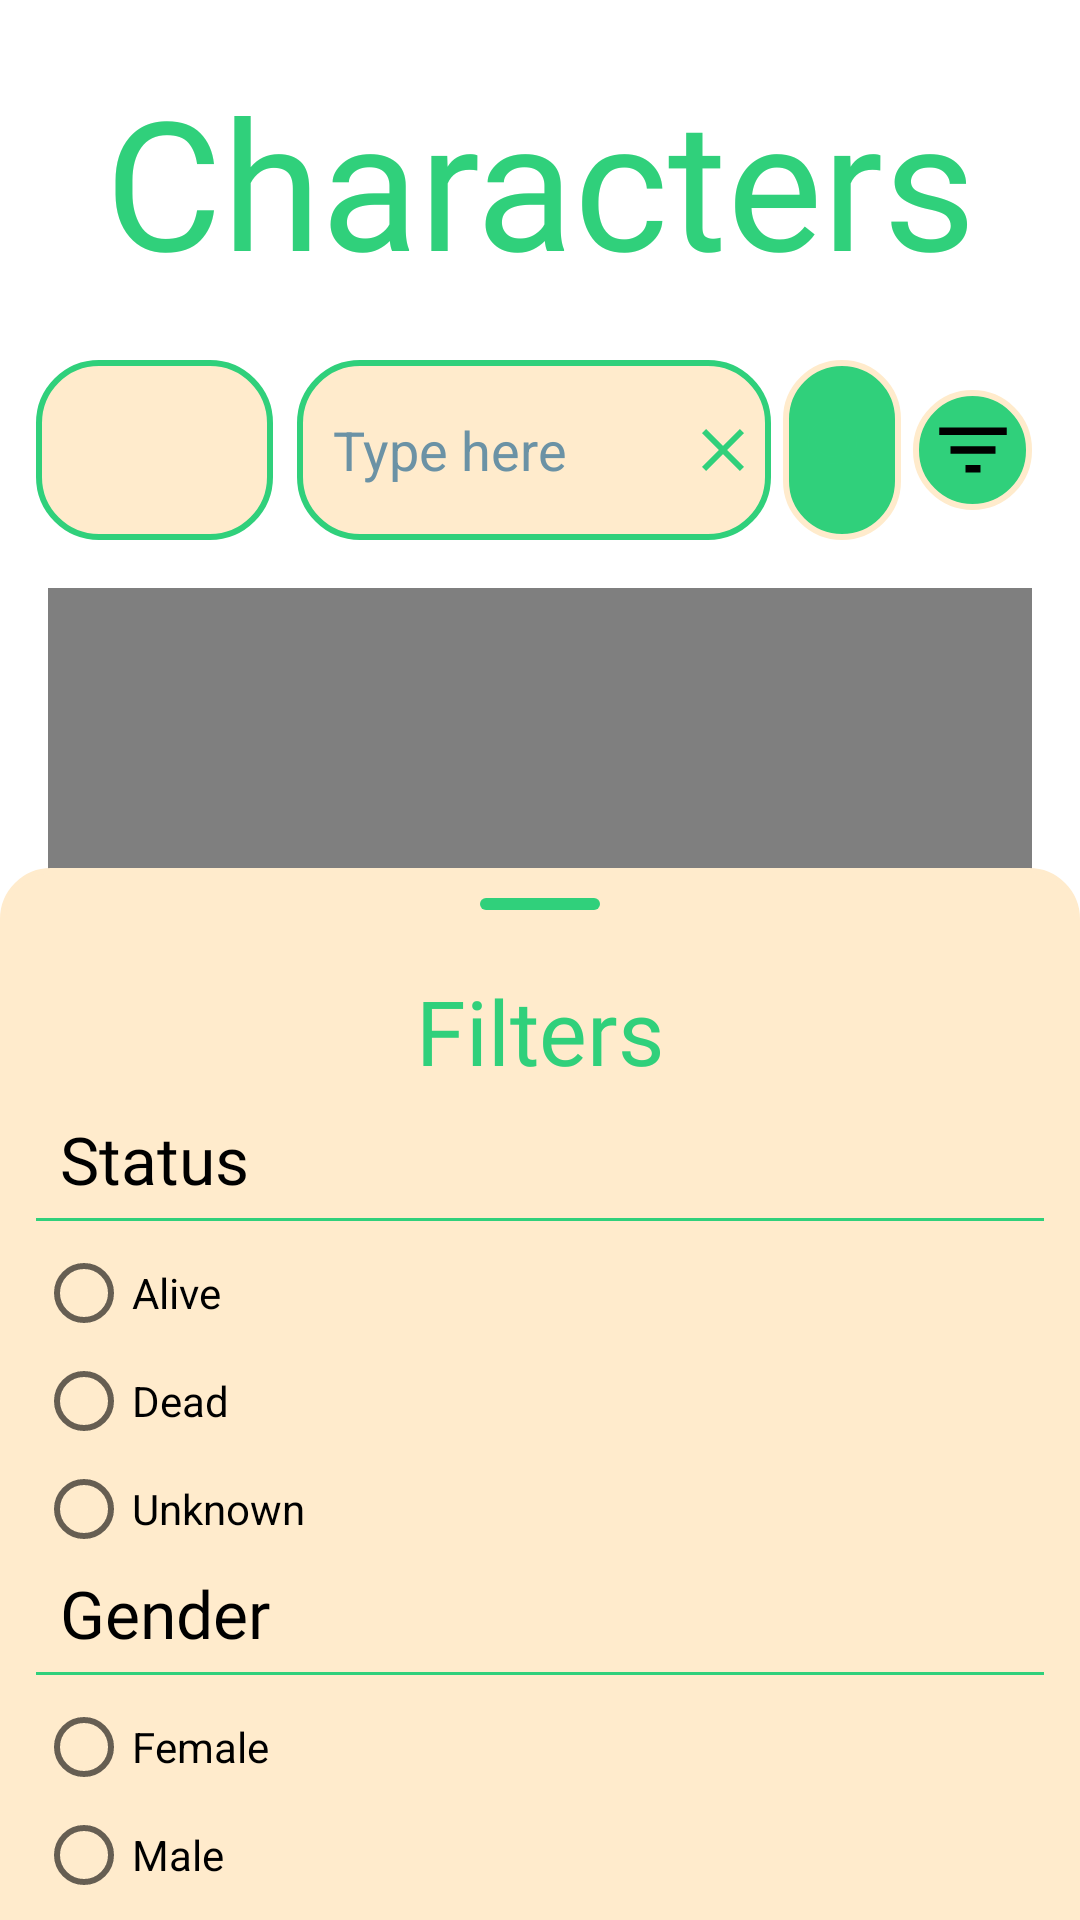

Where icons sit on this 1080 x 1920 app screen, as (x1, y1, x2, y2):
filter: (913, 390, 1032, 510)
